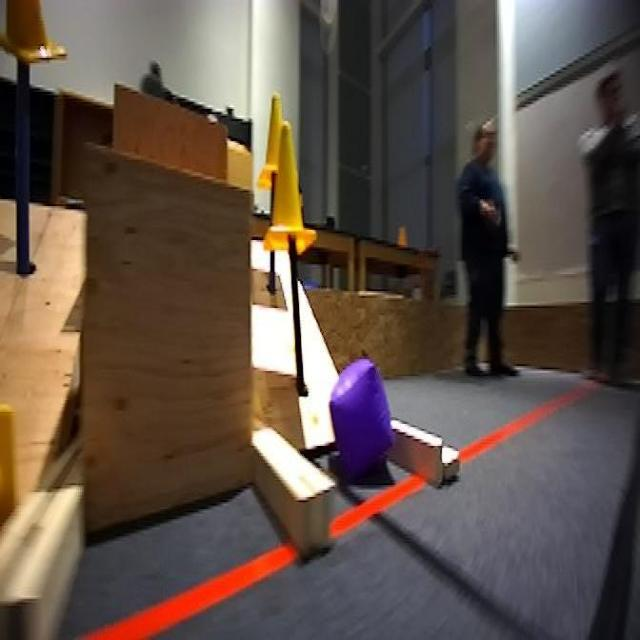frc_cone: (261, 128, 315, 254), (0, 0, 72, 68), (256, 94, 297, 192), (0, 403, 16, 526)
frc_cube: (327, 358, 395, 478)
